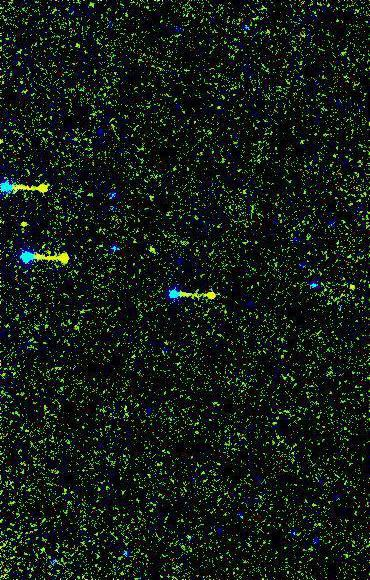star: (10, 210, 40, 240)
